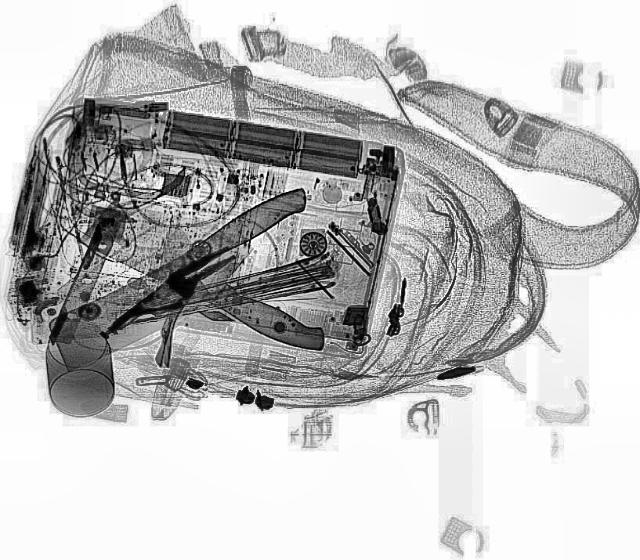Knife: (25, 186, 342, 372), (75, 179, 361, 359)
